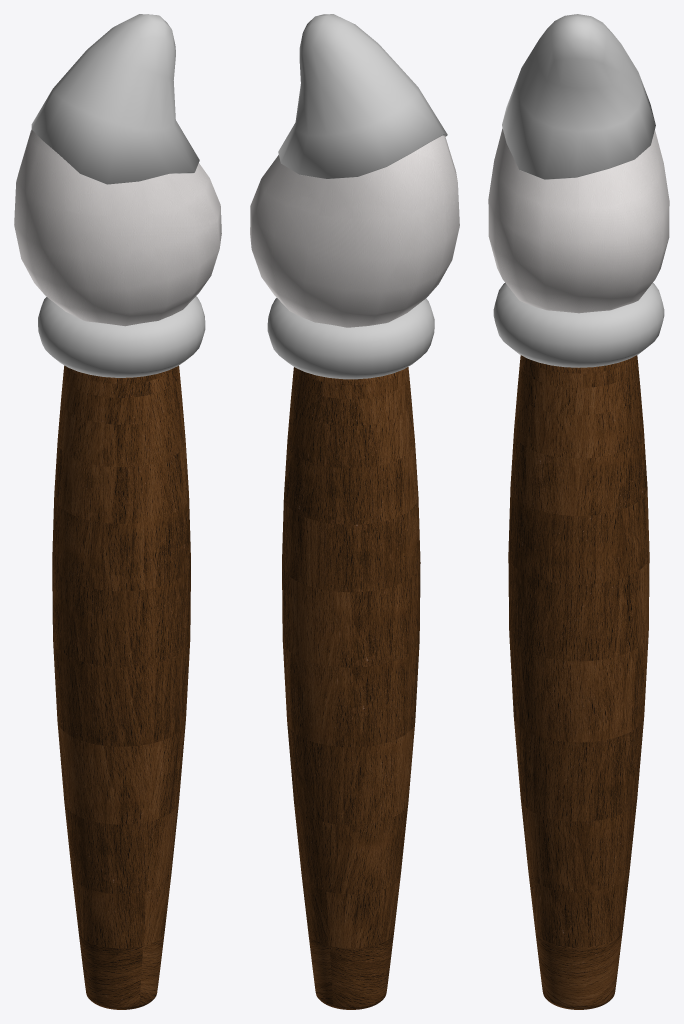
Rendered from brush.fbx.
The picture shows the model from 3 angles, left to right: view 1: azimuth 30°, elevation 25°; view 2: azimuth 150°, elevation 25°; view 3: azimuth 270°, elevation 25°; orthographic projection.
Parts seen in each view (by area): view 1: brush; view 2: brush; view 3: brush.
Part boxes in pixels (x1,y1,x2,y2): brush: [14, 14, 221, 1009]; brush: [250, 14, 459, 1009]; brush: [488, 14, 669, 1009].
Size of the model in its own units: 31.57 by 160 by 26.46.
